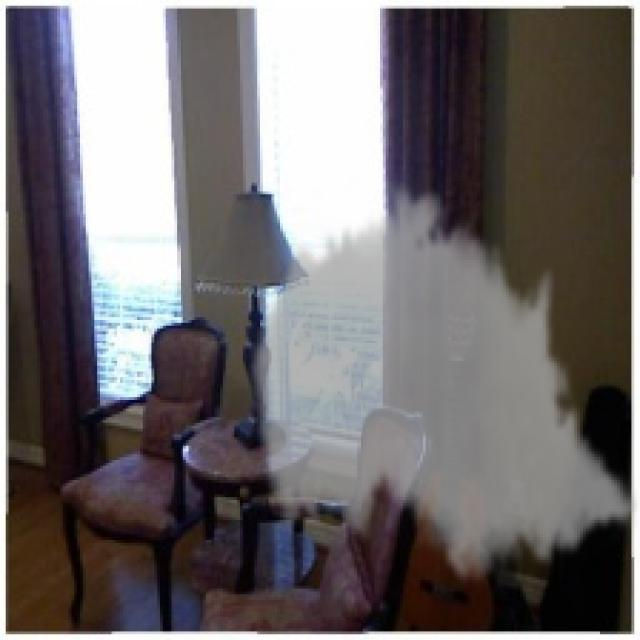Smoke: (245, 177, 638, 597)
